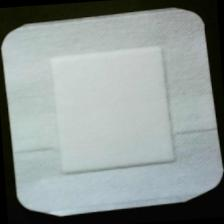Dressing: (1, 2, 224, 220)
